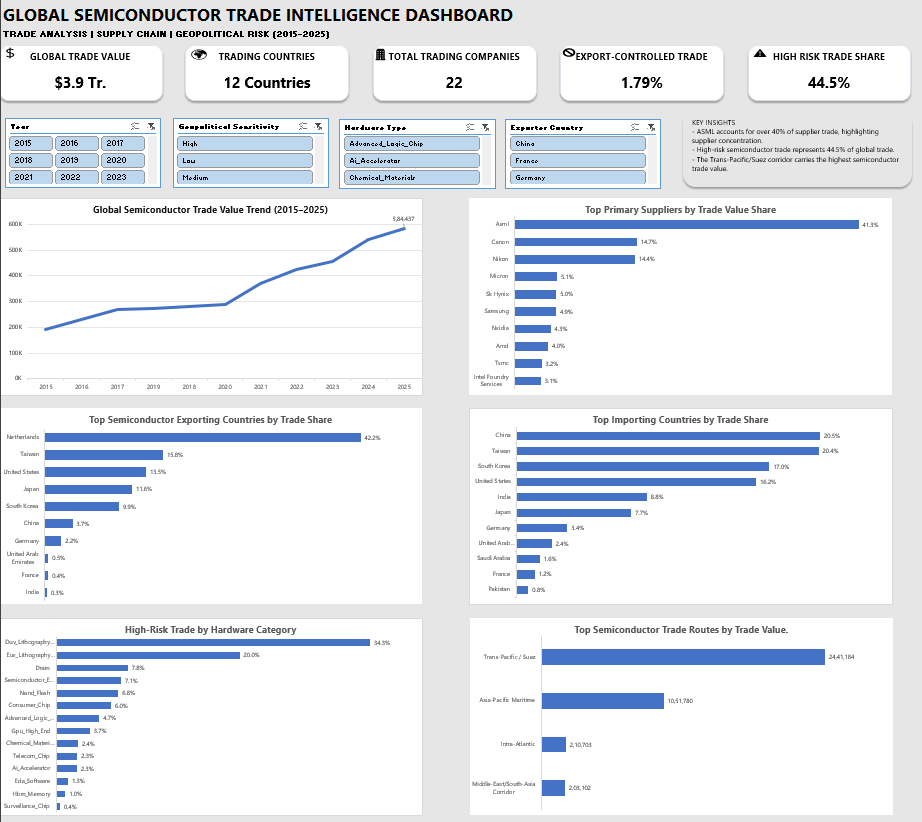

This screenshot's page, from the dashboard's own definition file:
{"tool":"powerbi","page":{"name":"Page 1","canvas":[1280,720],"ordinal":0},"visuals":[{"type":"textbox","box":[7.5,0,632.5,60],"z":0},{"type":"slicer","title":"Year","fields":{"Values":["Trade_Flows1.year"]},"box":[691.2,0,128,60],"z":1000},{"type":"cardVisual","fields":{"Data":["Sum(Trade_Flows1.trade_value_usd_millions)","Count(Country.exporter_country)","Count(company_profile (2).company_name)","Trade_Flows1.High_Risk"]},"box":[0,60,708.5,97.7],"z":2000},{"type":"lineChart","title":"Global Semiconductor Trade Value Trend (2015-2025)","fields":{"Y":["Sum(Trade_Flows1.trade_value_usd_millions)"],"Category":["Trade_Flows1.year"]},"box":[0,169.7,402,246],"z":3000},{"type":"slicer","title":"Year","fields":{"Values":["Country.exporter_country"]},"box":[839.2,0,128,60],"z":4000},{"type":"slicer","title":"Year","fields":{"Values":["Trade_Flows1.geopolitical_sensitivity"]},"box":[987.1,0,128,60],"z":5000},{"type":"slicer","title":"Year","fields":{"Values":["Trade_Flows1.Hardware_Segment"]},"box":[1135,0,128,60],"z":6000},{"type":"clusteredBarChart","title":"Semiconductor  Exporting Countries by Trade Share","fields":{"Category":["Trade_Flows1.exporter_country"],"Y":["Sum(Trade_Flows1.trade_value_usd_millions)"]},"box":[0,431,402,289],"z":7000},{"type":"clusteredBarChart","title":"Top Importing countries by Trade Share","fields":{"Y":["Sum(Trade_Flows1.trade_value_usd_millions)"],"Category":["Trade_Flows1.importer_country"]},"box":[439,431,402,289],"z":8000},{"type":"clusteredBarChart","title":"Primary Supplier by Trade Share","fields":{"Y":["Sum(Trade_Flows1.trade_value_usd_millions)"],"Category":["Trade_Flows1.primary_supplier"]},"box":[439,169.7,402,246],"z":9000},{"type":"clusteredBarChart","title":"High-Risk Trade by Hardware Segment","fields":{"Category":["Trade_Flows1.hardware_type"],"Y":["Trade_Flows1.High_Risk"]},"box":[878,169.7,402,246],"z":10000},{"type":"clusteredBarChart","title":"Top Trade Route by Trade Value","fields":{"Category":["Trade_Flows1.trade_route"],"Y":["Sum(Trade_Flows1.trade_value_usd_millions)"]},"box":[878,431,402,289],"z":11000},{"type":"cardVisual","title":"Key Insights","fields":{"Data":["Country.Top Exporter","Country.Top Importer","Country.Top Supplier","Trade_Flows1.Export_controlled_Trade"]},"box":[708.5,60,571.5,97.7],"z":12000}]}

Visuals, with their boxes on the page's 1280x720 design canvas (x1, y1, x2, y2). These are canvas units, not pixel positions in the 922x822 screenshot, which may show the page scaled, cropped or inside an application window:
textbox: BBox(8, 0, 640, 60)
"Year" slicer: BBox(691, 0, 819, 60)
cardVisual - Sum(Trade_Flows1.trade_value_usd_millions) x Count(Country.exporter_country): BBox(0, 60, 708, 158)
"Global Semiconductor Trade Value Trend (2015-2025)" lineChart: BBox(0, 170, 402, 416)
"Year" slicer: BBox(839, 0, 967, 60)
"Year" slicer: BBox(987, 0, 1115, 60)
"Year" slicer: BBox(1135, 0, 1263, 60)
"Semiconductor  Exporting Countries by Trade Share" clusteredBarChart: BBox(0, 431, 402, 720)
"Top Importing countries by Trade Share" clusteredBarChart: BBox(439, 431, 841, 720)
"Primary Supplier by Trade Share" clusteredBarChart: BBox(439, 170, 841, 416)
"High-Risk Trade by Hardware Segment" clusteredBarChart: BBox(878, 170, 1280, 416)
"Top Trade Route by Trade Value" clusteredBarChart: BBox(878, 431, 1280, 720)
"Key Insights" cardVisual: BBox(708, 60, 1280, 158)
